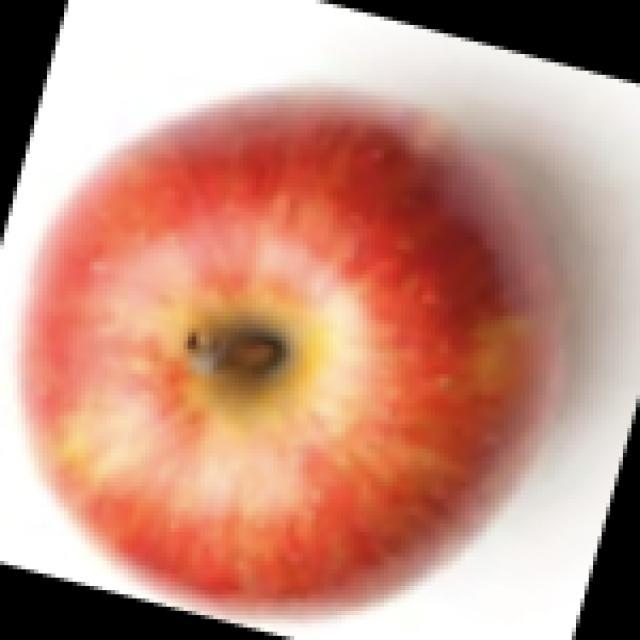Fresh Apple: (34, 100, 558, 635)
